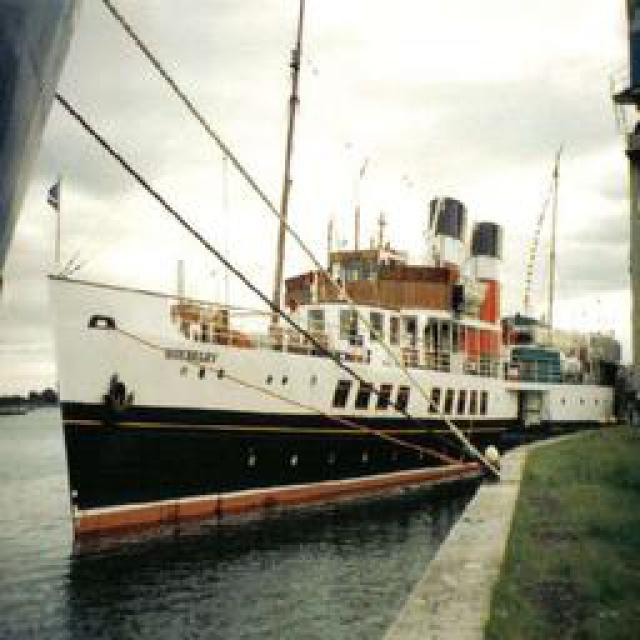Ship: (52, 113, 572, 541)
